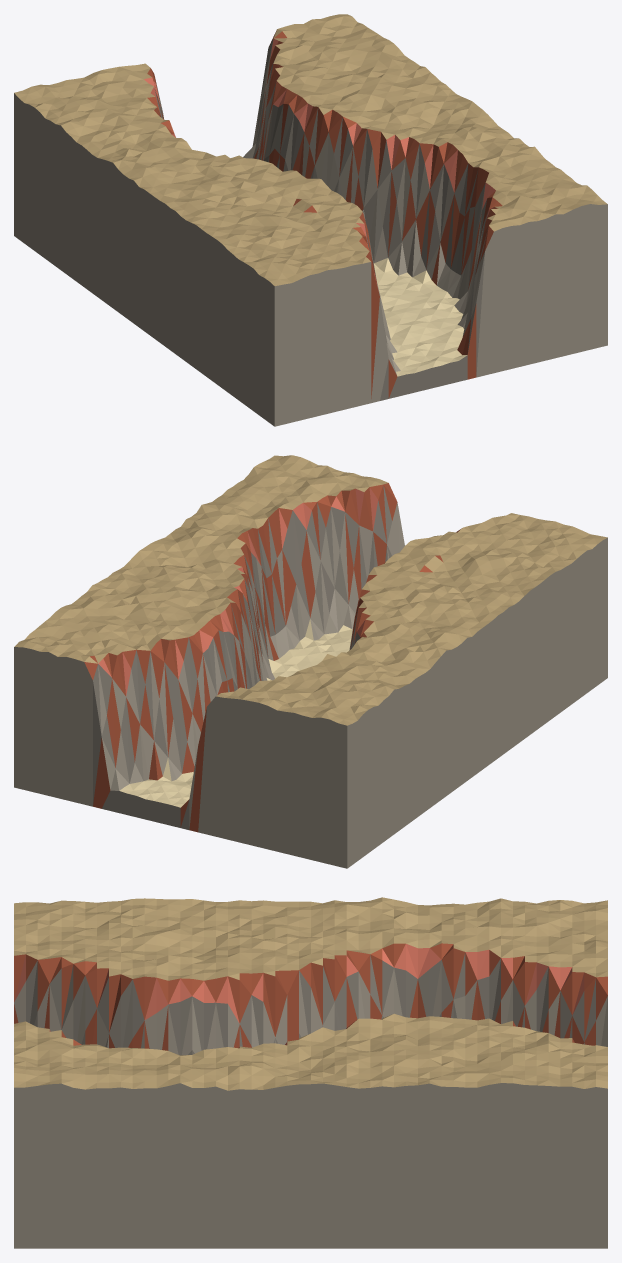
The model's file is TERRAIN_08.obj.
The picture shows the model from 3 angles, top to bottom: view 1: azimuth 30°, elevation 25°; view 2: azimuth 150°, elevation 25°; view 3: azimuth 270°, elevation 25°; orthographic projection. The views are drawn at different scales.
Visible parts, largest first — view 1: TERRAIN_08; view 2: TERRAIN_08; view 3: TERRAIN_08.
Boxes of the visible parts, x1=… form: TERRAIN_08: x1=14, y1=14, x2=607, y2=426; TERRAIN_08: x1=14, y1=455, x2=607, y2=868; TERRAIN_08: x1=14, y1=897, x2=607, y2=1248.
Size of the model in its own units: 62 by 26.3 by 84.
